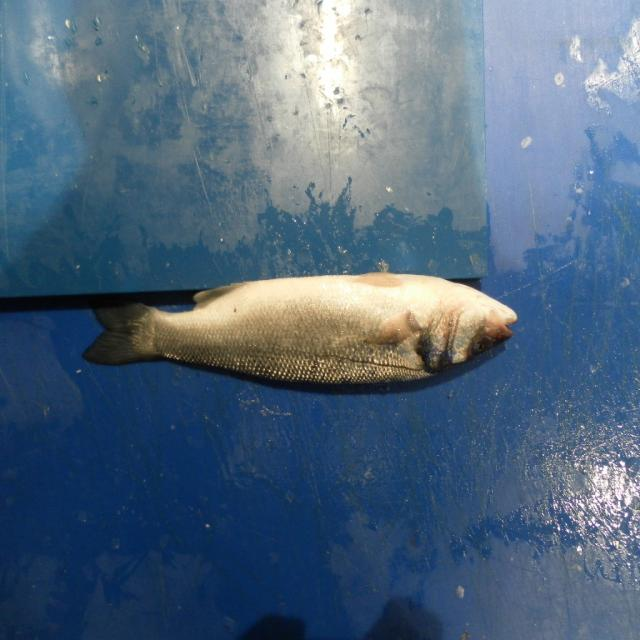Sea-Bass-levrek-: (85, 272, 518, 396)
